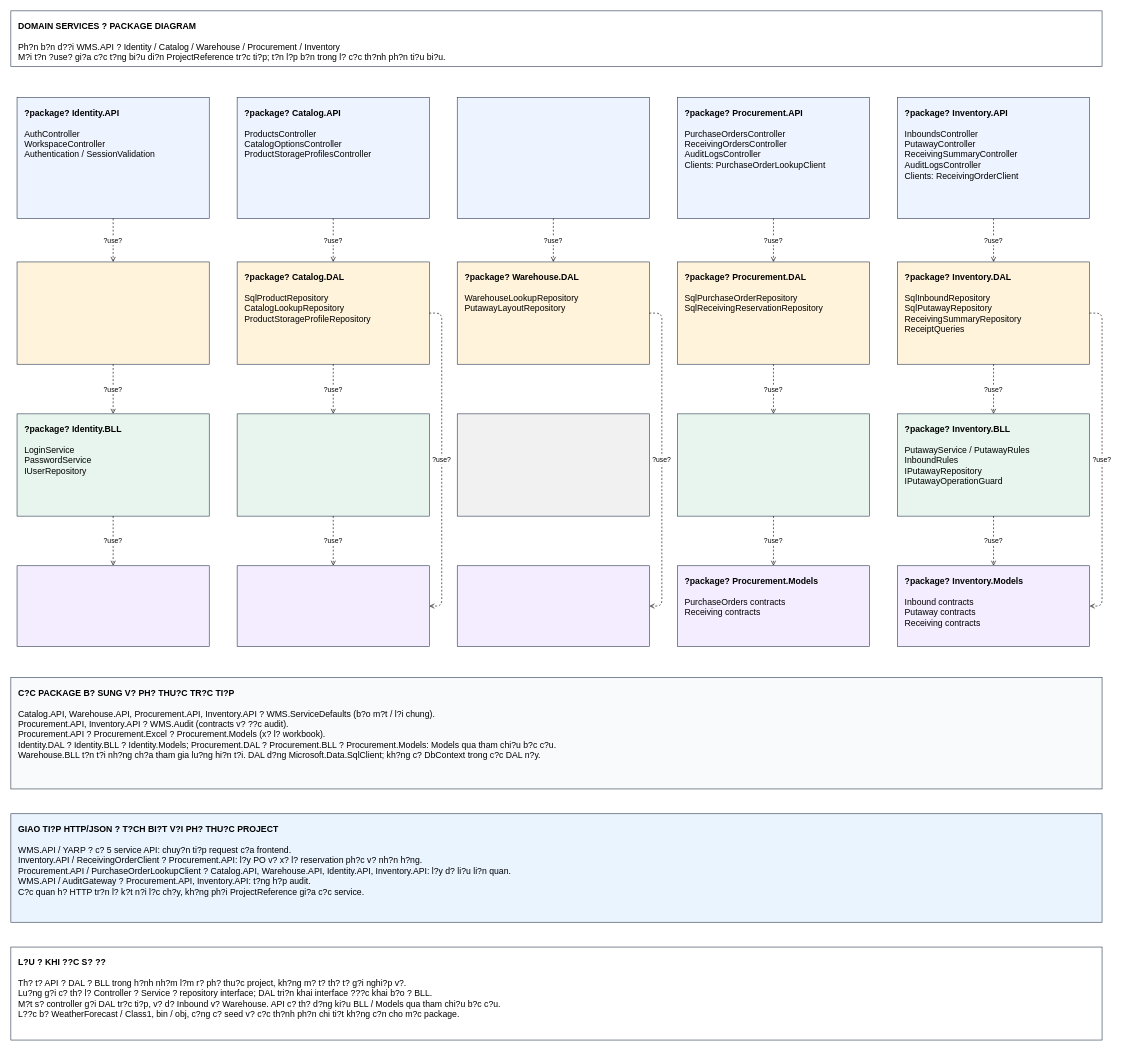
This 1123x1051 diagram has some shape labels left out. The centre of each missing label's shape, as x and y in pixels:
"?package? Catalog.BLL ProductService Repository interface" goes at (333,464).
"?package? Catalog.Models Products contracts Lookups contracts" goes at (333,605).
"?package? Identity.DAL SqlUserRepository" goes at (112,312).
"?package? Identity.Models Authentication contracts AuthUser" goes at (112,605).
"?package? Procurement.BLL PurchaseOrderService Repository / lookup interfaces" goes at (773,464).
"?package? Warehouse.API WarehouseOptionsController PutawayLayoutController" goes at (553,158).
"?package? Warehouse.BLL Ch?a c? logic nghi?p v? Kh?ng ???c API / DAL tham chi?u" goes at (553,464).
"?package? Warehouse.Models WarehouseOption PutawayLayout contracts" goes at (553,605).
